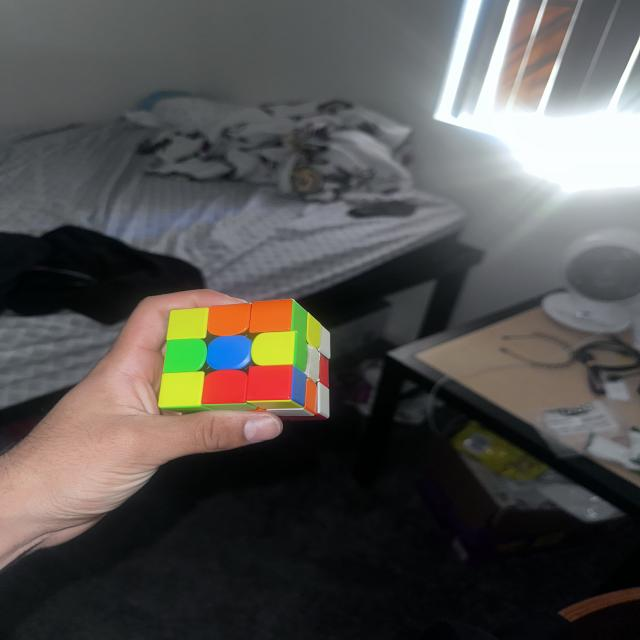sticker: (257, 371, 318, 417), (245, 363, 301, 408), (278, 378, 328, 421), (158, 370, 207, 413), (250, 330, 302, 370), (200, 368, 250, 408), (205, 334, 253, 372), (247, 298, 294, 335), (162, 338, 208, 374), (206, 302, 251, 338), (164, 307, 210, 341), (292, 329, 308, 374), (306, 312, 323, 354), (302, 378, 319, 418), (314, 381, 330, 420), (317, 324, 331, 361), (318, 354, 330, 389)
